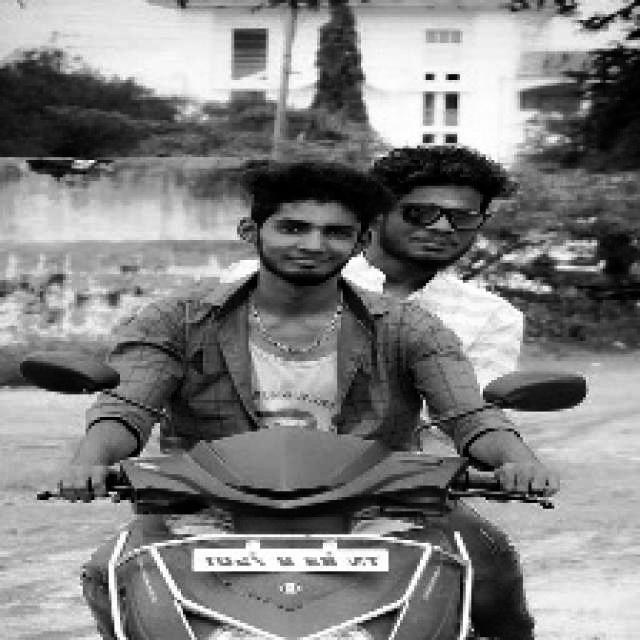Bike: (61, 434, 519, 640)
